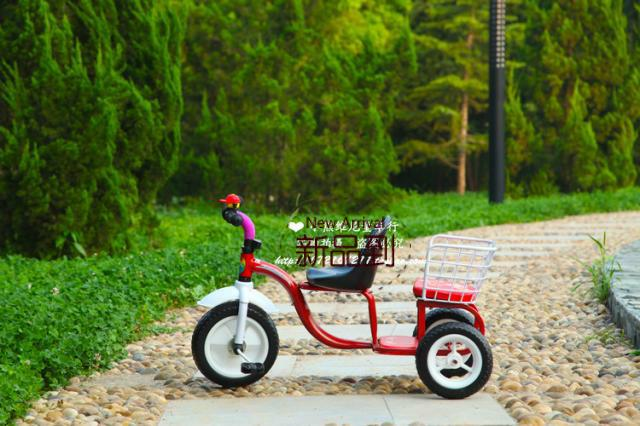empty: (178, 187, 513, 408)
